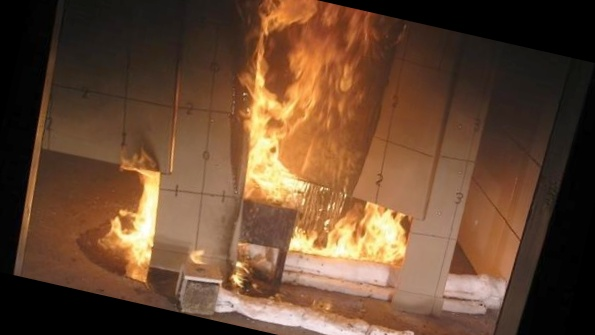fire: (189, 0, 461, 294), (74, 142, 194, 287)
